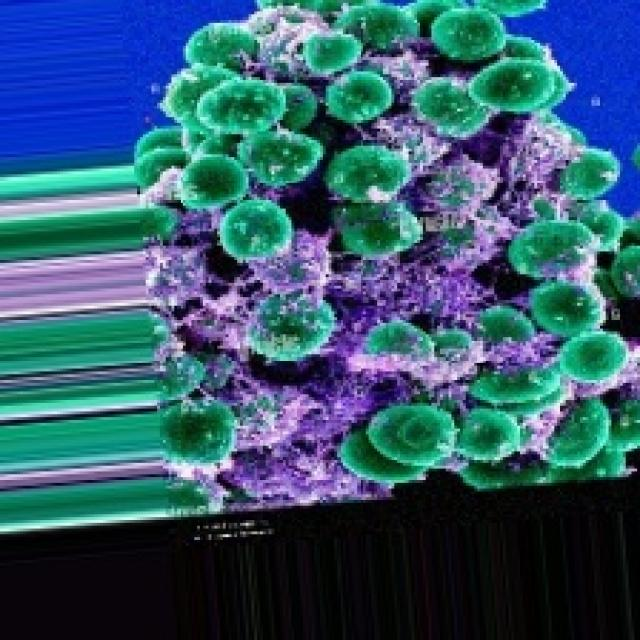Spherical_bacteria: (131, 0, 637, 511)
